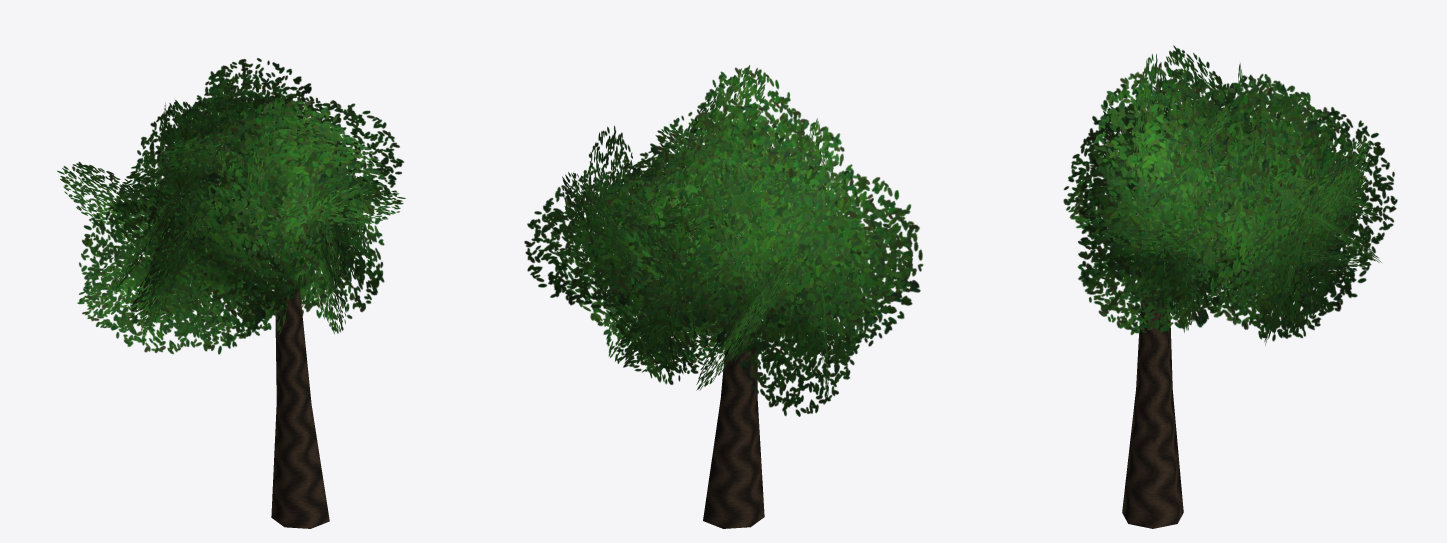
File: round_a.glb
3 renders of one model, left to right at view 1: azimuth 30°, elevation 25°; view 2: azimuth 150°, elevation 25°; view 3: azimuth 270°, elevation 25°, orthographic. The views are drawn at different scales.
Parts seen in each view (by area): view 1: round_a; view 2: round_a; view 3: round_a.
Part boxes in pixels (x1=…): round_a: x1=57, y1=58, x2=405, y2=528; round_a: x1=524, y1=65, x2=923, y2=528; round_a: x1=1063, y1=45, x2=1397, y2=528.
Bounding box in the file's own units: 1.17 × 1.4 × 1.14.
2 materials, 2 textured.
